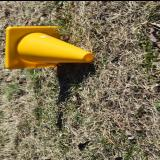cone: (5, 24, 95, 68)
